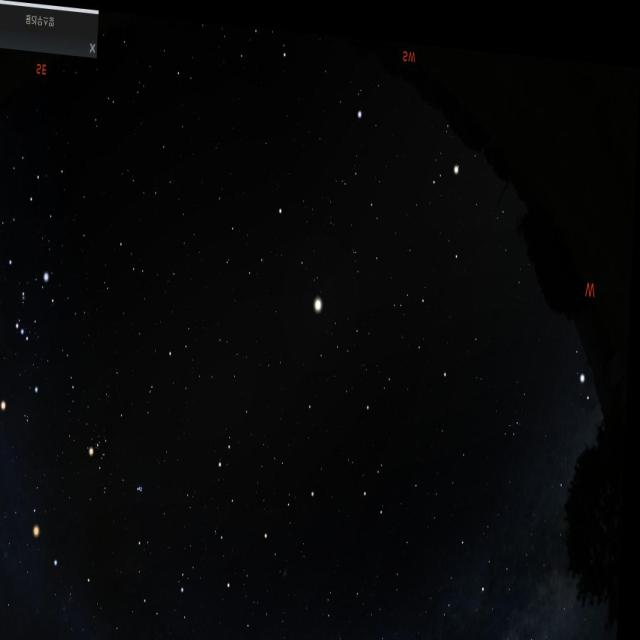cygnus: (464, 554, 584, 640)
orion: (0, 233, 62, 440)
pleiades: (138, 478, 150, 495)
taurus: (84, 375, 160, 510)
